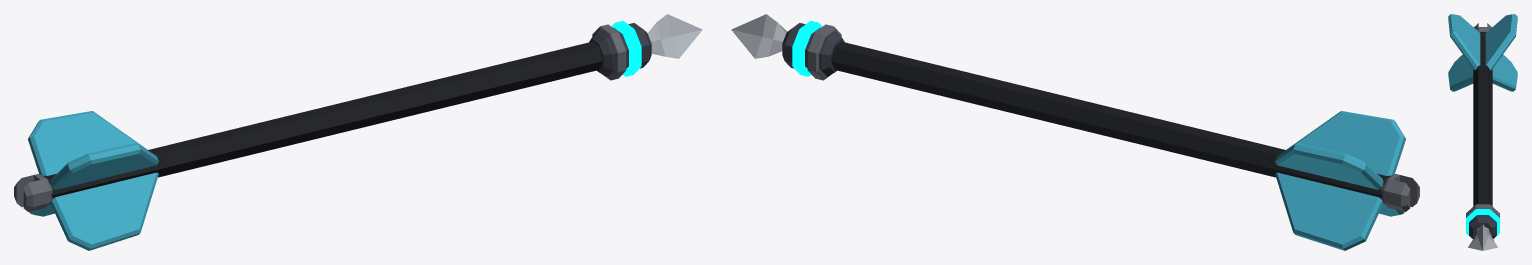
The model's file is ReconDart.fbx.
3 renders of one model, left to right at view 1: azimuth 30°, elevation 25°; view 2: azimuth 150°, elevation 25°; view 3: azimuth 270°, elevation 25°, orthographic. The views are drawn at different scales.
Parts seen in each view (by area): view 1: Shaft, Fletch, Head, Collar, Nock, Light_Energy, Band; view 2: Shaft, Fletch, Head, Collar, Nock, Light_Energy, Band; view 3: Fletch, Shaft, Head, Collar, Light_Energy, Band, Nock.
Boxes of the visible parts, x1,y1,x2,y2 form: Shaft: [43, 41, 602, 203]; Fletch: [28, 111, 158, 250]; Head: [647, 14, 702, 58]; Collar: [589, 23, 651, 76]; Nock: [14, 174, 52, 211]; Light_Energy: [611, 21, 641, 76]; Band: [592, 24, 626, 80]; Shaft: [831, 41, 1390, 203]; Fletch: [1275, 111, 1405, 250]; Head: [731, 14, 787, 58]; Collar: [782, 23, 844, 76]; Nock: [1381, 174, 1419, 211]; Light_Energy: [792, 21, 822, 76]; Band: [807, 24, 841, 80]; Fletch: [1448, 14, 1517, 91]; Shaft: [1473, 32, 1492, 206]; Head: [1468, 224, 1497, 250]; Collar: [1469, 215, 1496, 238]; Light_Energy: [1466, 209, 1499, 239]; Band: [1466, 204, 1499, 217]; Nock: [1474, 23, 1491, 31].
Bounding box in the file's own units: 1 × 0.1336 × 0.1336.
